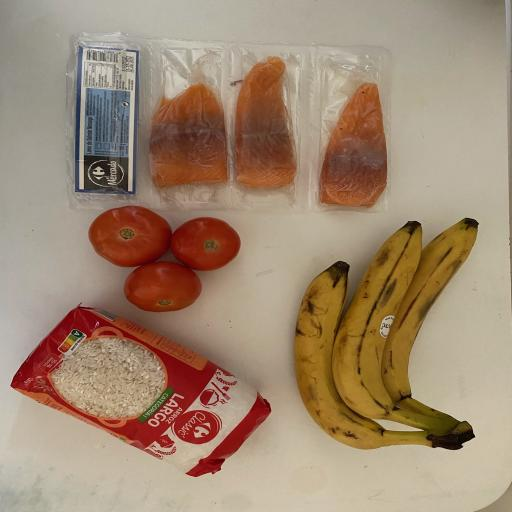banana: (330, 216, 460, 447), (289, 260, 437, 458), (380, 211, 492, 444)
rice: (8, 300, 276, 480)
salmon: (144, 78, 234, 194), (314, 77, 390, 211), (228, 55, 302, 191)
tomato: (86, 202, 174, 270), (116, 259, 206, 312), (169, 213, 244, 271)
